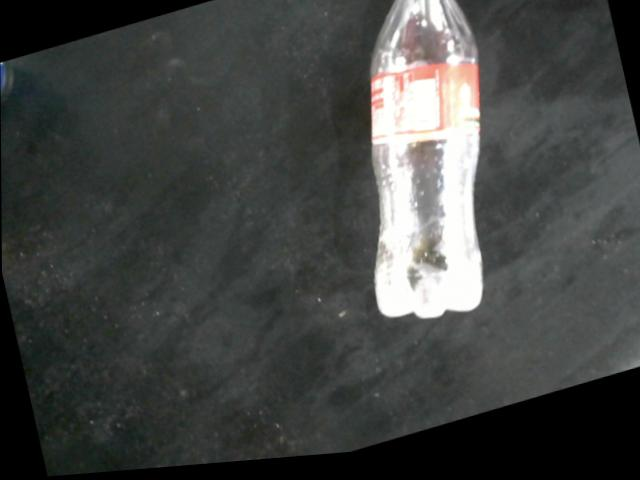bottle: (369, 0, 482, 327)
